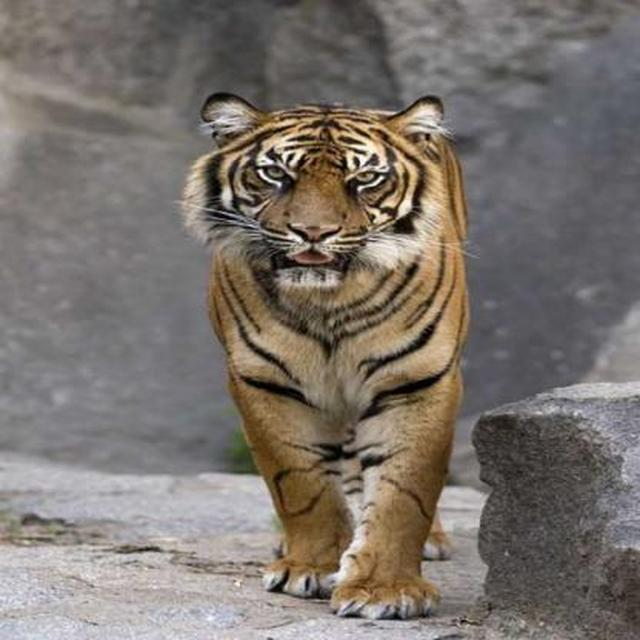tiger: (176, 89, 474, 620)
